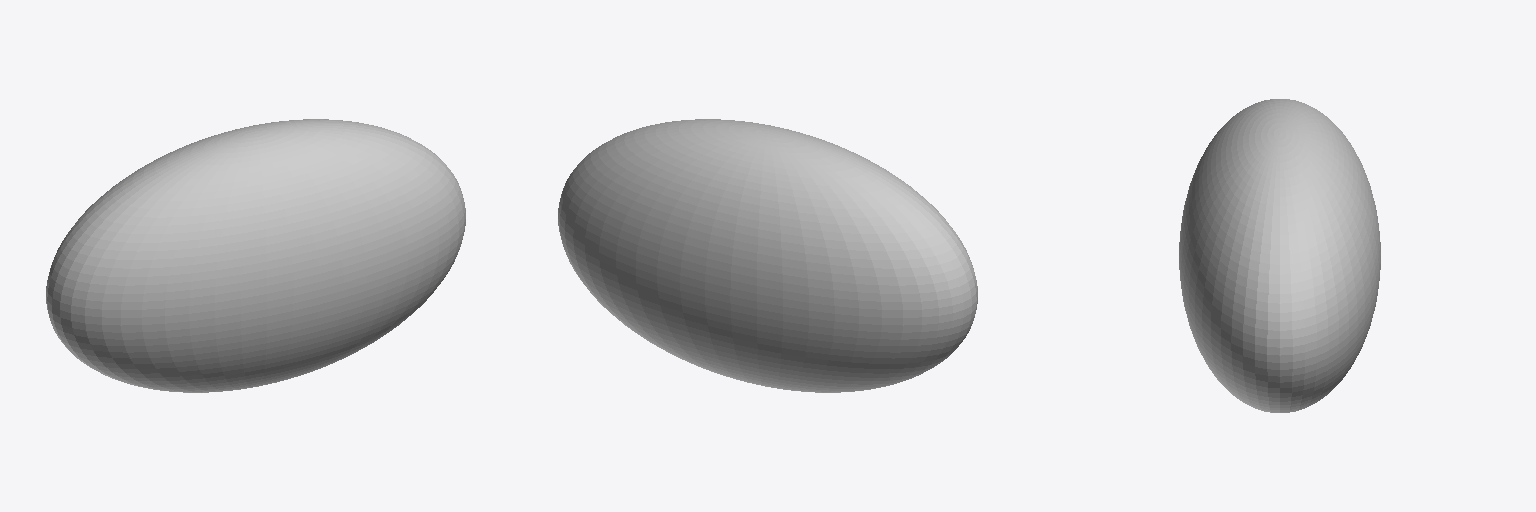
The model's file is ellipsoid.obj.
3 views of the same model, side by side, from view 1: azimuth 30°, elevation 25°; view 2: azimuth 150°, elevation 25°; view 3: azimuth 270°, elevation 25° (orthographic).
Parts seen in each view (by area): view 1: Ellipsoid; view 2: Ellipsoid; view 3: Ellipsoid.
Boxes of the visible parts, x1,y1,x2,y2 form: Ellipsoid: [46, 119, 465, 392]; Ellipsoid: [558, 119, 977, 392]; Ellipsoid: [1179, 99, 1380, 412].
Size of the model in its own units: 1.4 by 0.8 by 0.5988.